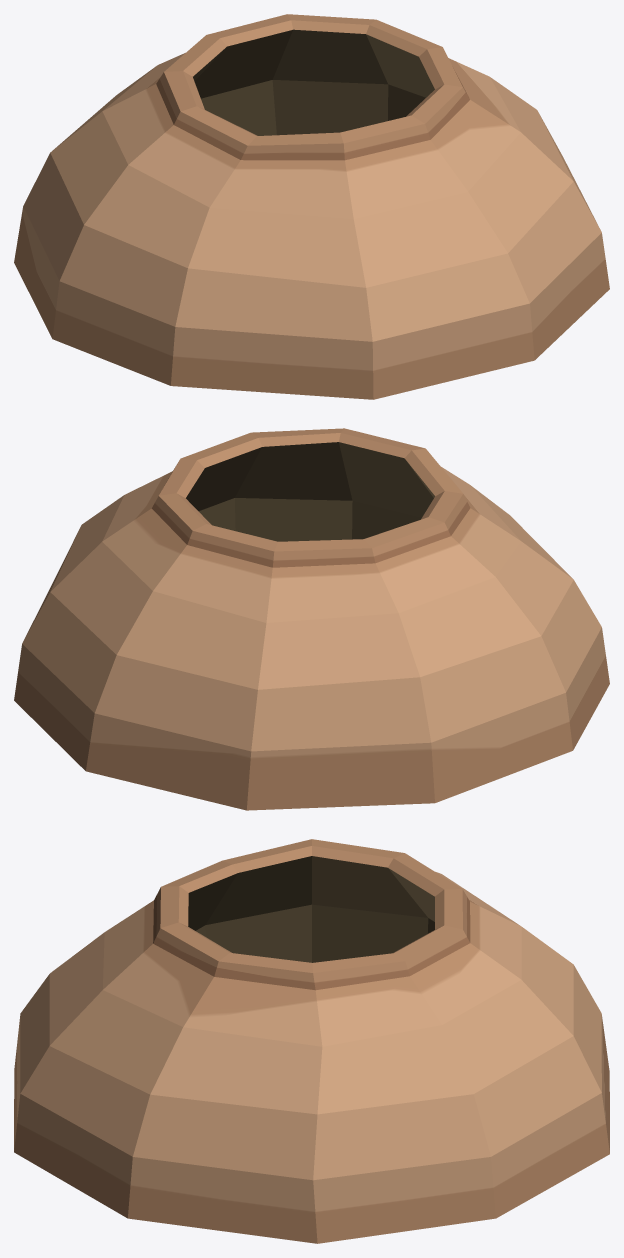
File: SM_Prop_ClayJar_02.fbx
3 views of the same model, one above another, from view 1: azimuth 30°, elevation 25°; view 2: azimuth 150°, elevation 25°; view 3: azimuth 270°, elevation 25° (orthographic). The views are drawn at different scales.
Visible parts, largest first — view 1: SM_Prop_ClayJar_02; view 2: SM_Prop_ClayJar_02; view 3: SM_Prop_ClayJar_02.
Part boxes in pixels (bbox=[...]): SM_Prop_ClayJar_02: bbox=[14, 14, 609, 399]; SM_Prop_ClayJar_02: bbox=[14, 428, 609, 810]; SM_Prop_ClayJar_02: bbox=[14, 839, 609, 1243].
Bounding box in the file's own units: 221 × 80.75 × 210.
